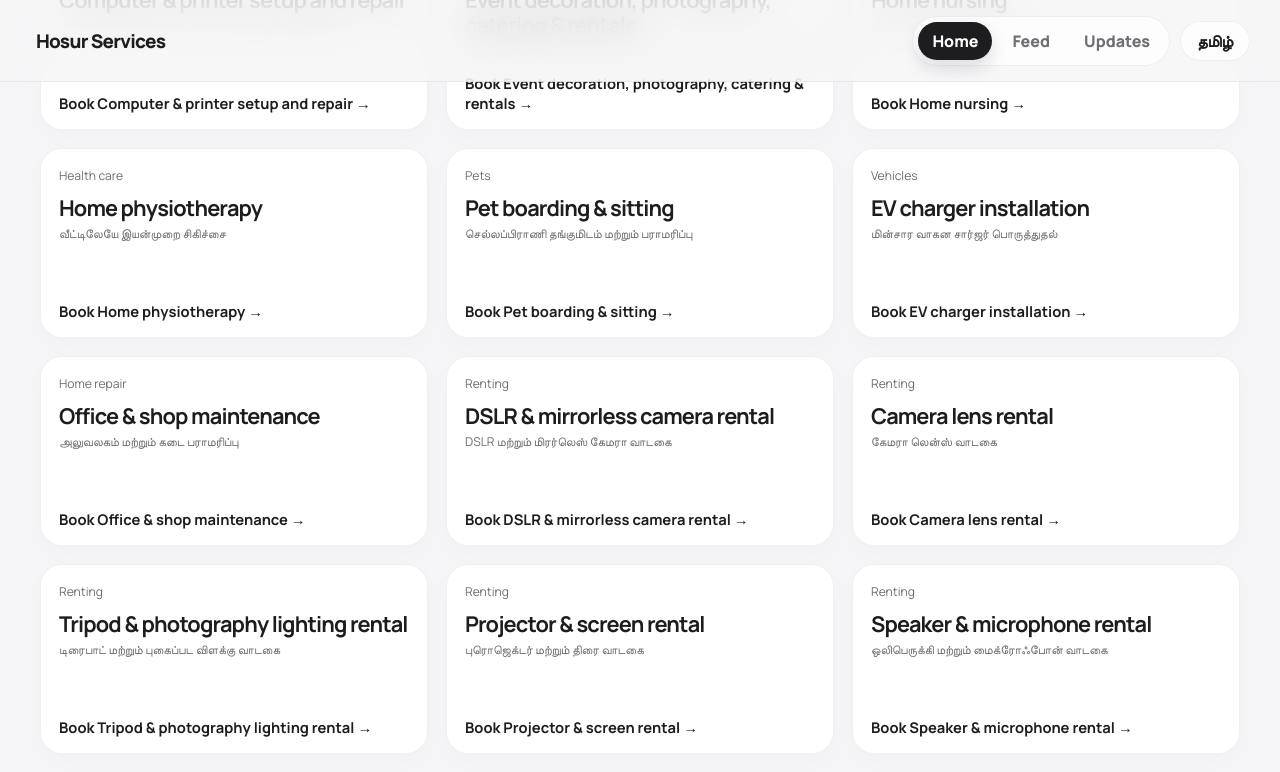
Test case: expanded service catalogue › omits the founder matching message for DSLR & mirrorless camera rental
(page scrolled)
What coordinates should you click on to do the following:
click the button named "Book DSLR & mirrorless camera rental"
I would click on:
 (640, 451)
Its box is [446, 356, 834, 546].
(page scrolled)
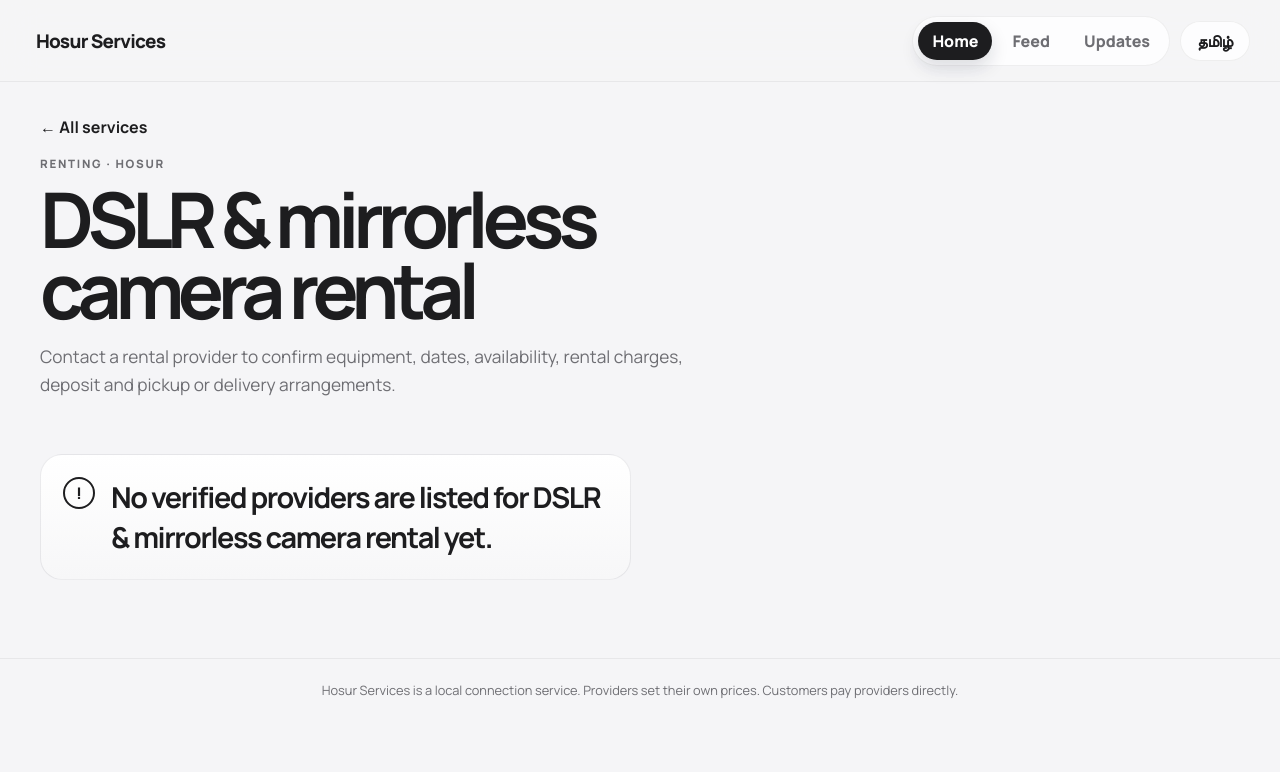
Now the 2nd heading is shown, box [111, 477, 608, 557]
